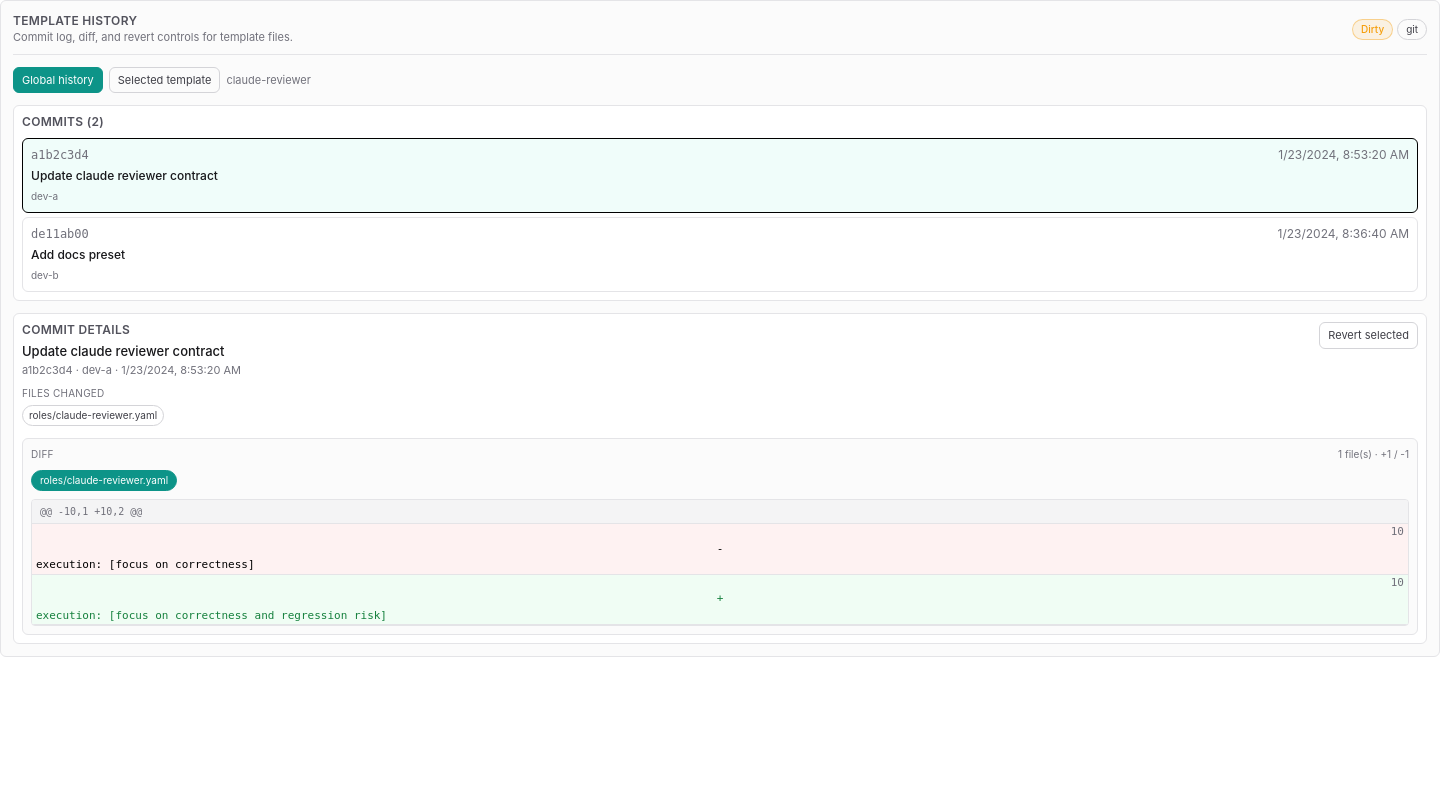
Test case: TemplateHistoryPanel › handles revert errors
Click the button with test id "template-history-revert-button": {"x": 1369, "y": 335} [1319,322,1418,348]
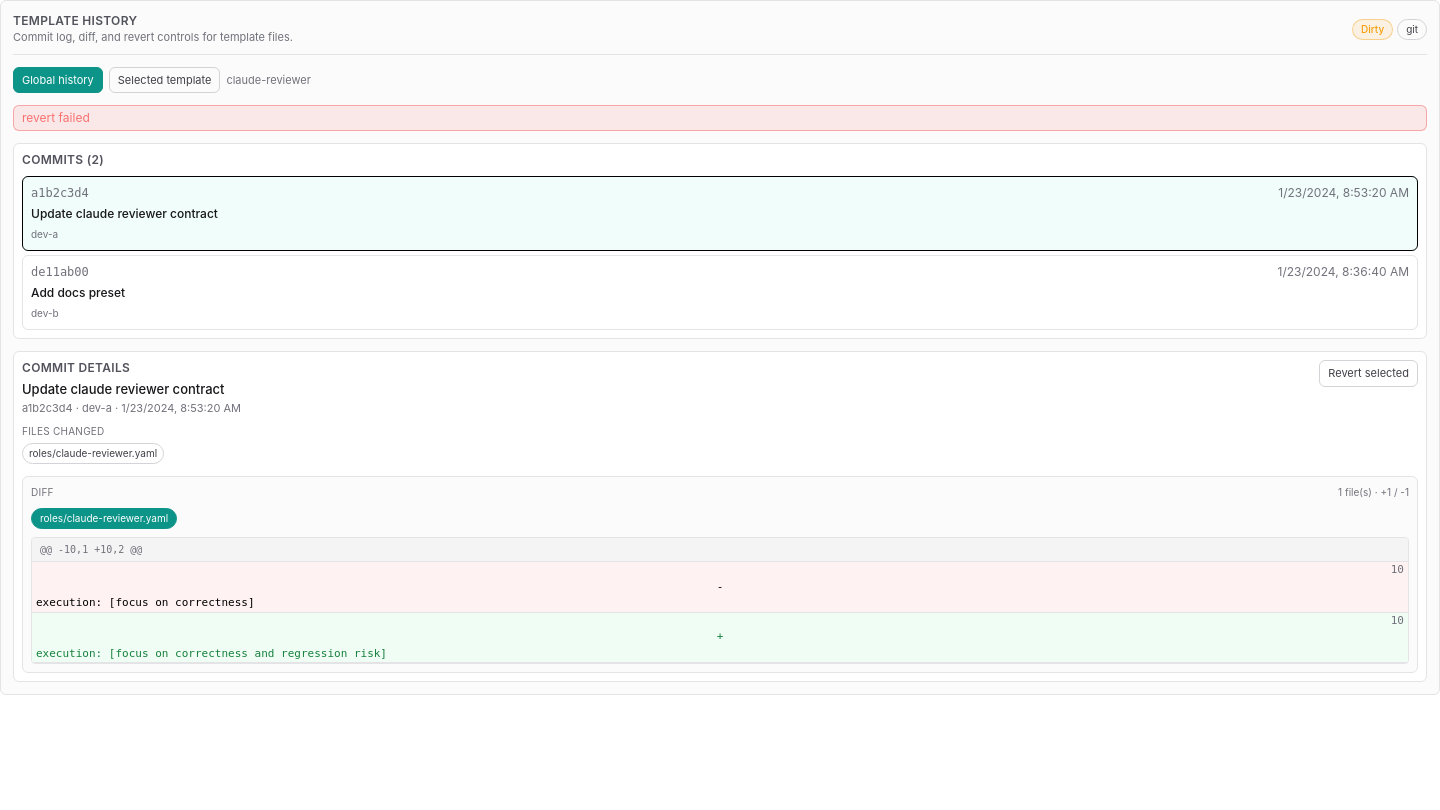
Expected: the text with test id "template-history-error" reads "revert failed", [22,110,90,125]
